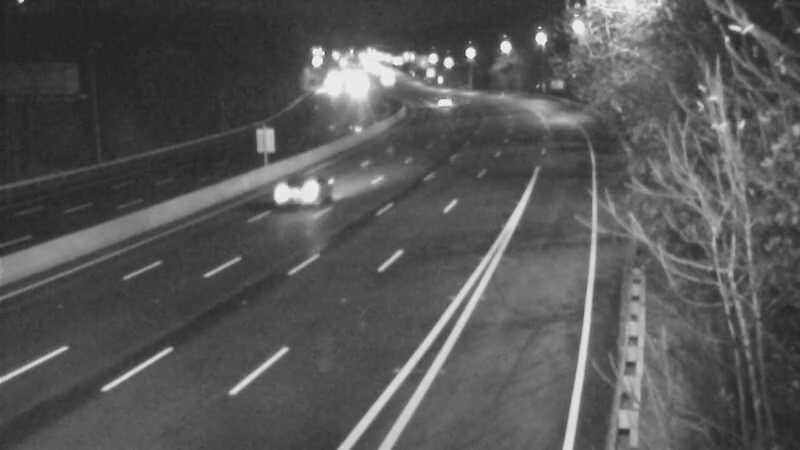vehicle: (250, 156, 330, 236), (422, 76, 472, 126)
